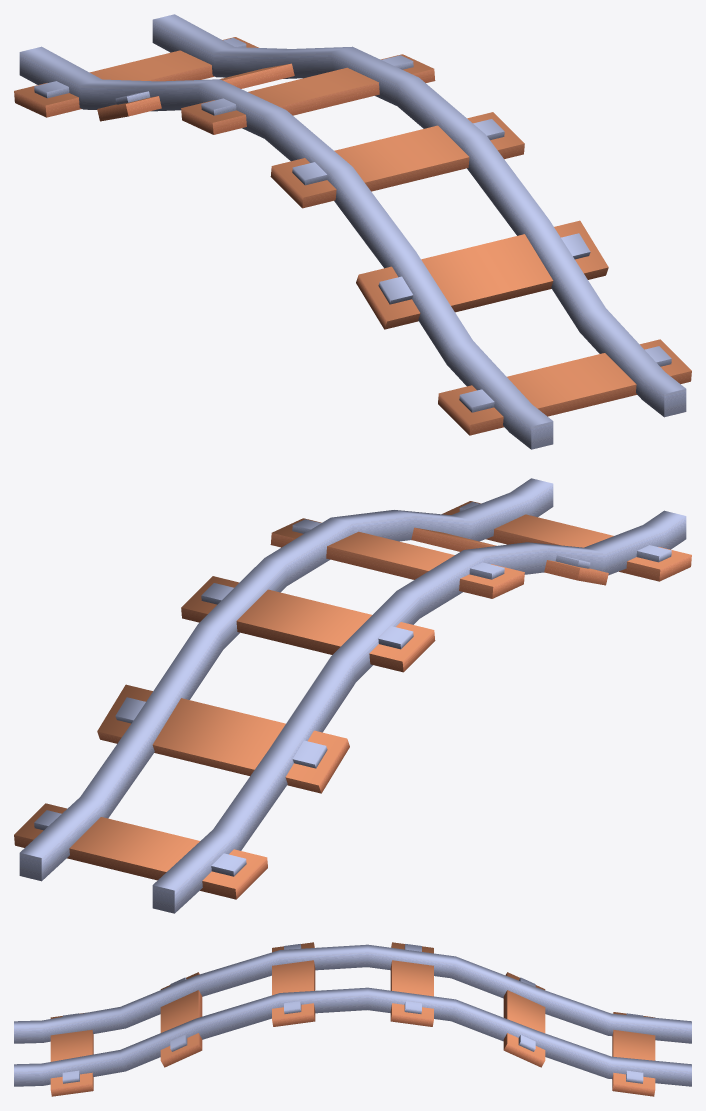
Rendered from railroad-straight-bump-up.glb.
The picture shows the model from 3 angles, top to bottom: view 1: azimuth 30°, elevation 25°; view 2: azimuth 150°, elevation 25°; view 3: azimuth 270°, elevation 25°; orthographic projection. The views are drawn at different scales.
Visible parts, largest first — view 1: railroad-straight-bump-up; view 2: railroad-straight-bump-up; view 3: railroad-straight-bump-up.
Part boxes in pixels (bbox=[...]): railroad-straight-bump-up: bbox=[14, 14, 691, 449]; railroad-straight-bump-up: bbox=[14, 478, 691, 913]; railroad-straight-bump-up: bbox=[14, 942, 691, 1096].
Size of the model in its own units: 1 by 0.5986 by 4.
1 material, 1 textured.
